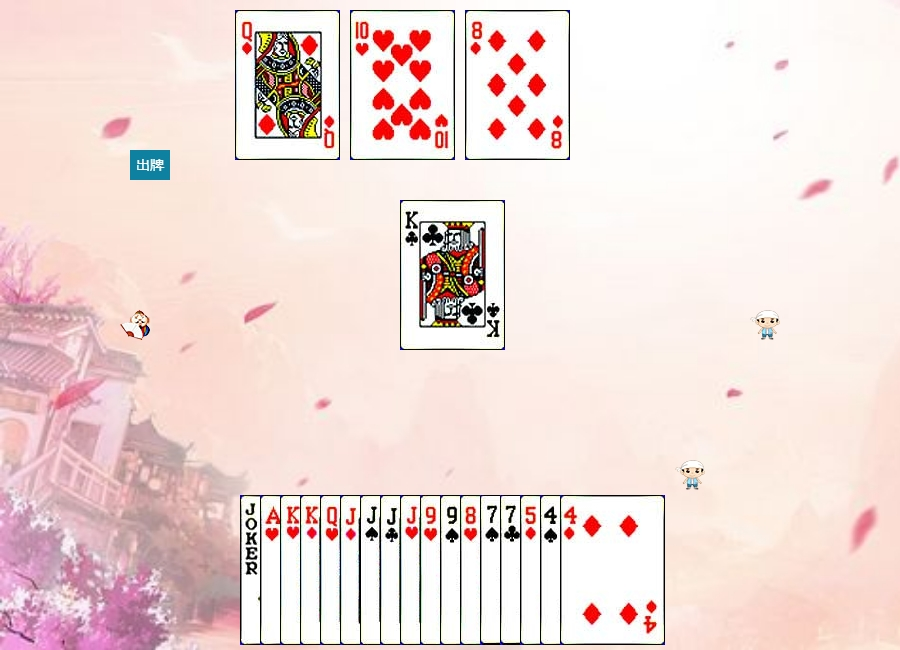10~3: (350, 10, 455, 160)
11~1: (340, 495, 445, 645)
11~2: (380, 495, 485, 645)
11~3: (400, 495, 505, 645)
11~4: (360, 495, 465, 645)
12~1: (235, 10, 340, 160)
12~3: (320, 495, 425, 645)
13~1: (300, 495, 405, 645)
13~2: (400, 200, 505, 350)
13~3: (280, 495, 385, 645)
14~3: (260, 495, 365, 645)
17~3: (240, 495, 345, 645)
4~1: (560, 495, 665, 645)
4~4: (540, 495, 645, 645)
5~1: (520, 495, 625, 645)
7~2: (500, 495, 605, 645)
7~4: (480, 495, 585, 645)
8~1: (465, 10, 570, 160)
8~3: (460, 495, 565, 645)
9~3: (420, 495, 525, 645)
9~4: (440, 495, 545, 645)
